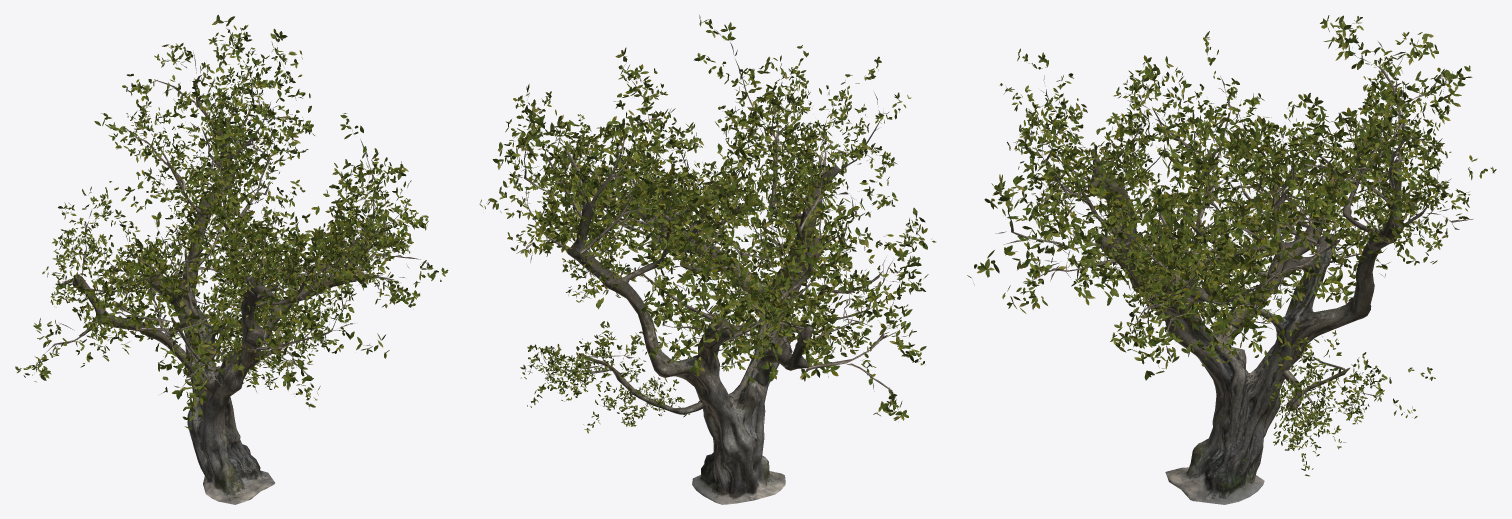
File: island_tree_01.glb
3 renders of one model, left to right at view 1: azimuth 30°, elevation 25°; view 2: azimuth 150°, elevation 25°; view 3: azimuth 270°, elevation 25°, orthographic. The views are drawn at different scales.
Parts seen in each view (by area): view 1: a_lod0; view 2: a_lod0; view 3: a_lod0.
Boxes of the visible parts, x1=… form: a_lod0: x1=15, y1=14, x2=448, y2=504; a_lod0: x1=479, y1=15, x2=935, y2=504; a_lod0: x1=967, y1=15, x2=1496, y2=504.
Size of what is drawn, in the model's own units: 4.76 by 4.98 by 4.8.
Materials: 3 (3 with a texture image).
